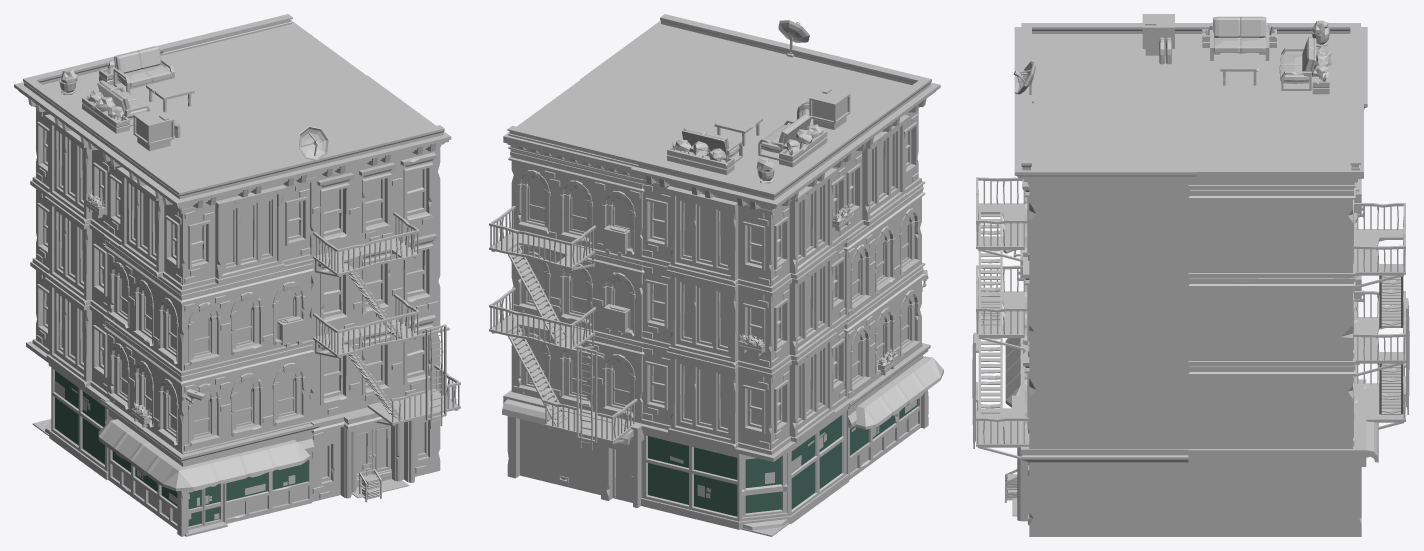
The model's file is house.obj.
3 renders of one model, left to right at view 1: azimuth 30°, elevation 25°; view 2: azimuth 150°, elevation 25°; view 3: azimuth 270°, elevation 25°, orthographic. The views are drawn at different scales.
Parts seen in each view (by area): view 1: SM_Bld_Apartment_Stack_08, SM_Bld_Apartment_Corner_25, SM_Bld_Apartment_Corner_23, SM_Bld_Apartment_Corner_24, SM_Bld_Apartment_Roof_Corner_02, SM_Bld_Apartment_Roof_15, SM_Bld_Apartment_Roof_36, SM_Bld_Shop_Corner_03, SM_Bld_Apartment_Door_22, SM_Bld_Apartment_Roof_Corner_27, SM_Bld_Shop_Cover_05, SM_Bld_Apartment_Corner_42 (+16 smaller); view 2: SM_Bld_Apartment_Stack_28, SM_Bld_Apartment_Corner_43, SM_Bld_Apartment_Corner_41, SM_Bld_Apartment_Corner_42, SM_Bld_Apartment_Roof_36, SM_Bld_Apartment_Roof_15, SM_Bld_Apartment_Roof_Corner_02, SM_Bld_Shop_22, SM_Bld_Shop_Corner_07, SM_Bld_Apartment_Roof_Corner_27, SM_Bld_Shop_Corner_02_Glass, SM_Bld_Apartment_Corner_24 (+17 smaller); view 3: SM_Bld_Apartment_Stack_08, SM_Bld_Apartment_Stack_28, SM_Bld_Shop_22, SM_Bld_Apartment_Door_22, SM_Bld_Apartment_Roof_15, SM_Bld_Apartment_Roof_36, SM_Bld_Apartment_Roof_Corner_02, SM_Bld_Apartment_Roof_Corner_27, SM_Bld_FireEscape_03, SM_Bld_FireEscape_02, SM_Bld_FireEscape_02_1, SM_Bld_FireEscape_03_1 (+8 smaller).
Boxes of the visible parts, bbox=[...] form: SM_Bld_Apartment_Stack_08: bbox=[309, 147, 440, 420]; SM_Bld_Apartment_Corner_25: bbox=[102, 153, 317, 290]; SM_Bld_Apartment_Corner_23: bbox=[104, 316, 314, 452]; SM_Bld_Apartment_Corner_24: bbox=[104, 235, 314, 371]; SM_Bld_Apartment_Roof_Corner_02: bbox=[93, 110, 321, 209]; SM_Bld_Apartment_Roof_15: bbox=[243, 75, 451, 177]; SM_Bld_Apartment_Roof_36: bbox=[158, 14, 365, 109]; SM_Bld_Shop_Corner_03: bbox=[100, 399, 319, 536]; SM_Bld_Apartment_Door_22: bbox=[311, 407, 440, 501]; SM_Bld_Apartment_Roof_Corner_27: bbox=[14, 46, 242, 150]; SM_Bld_Shop_Cover_05: bbox=[98, 419, 310, 491]; SM_Bld_Apartment_Corner_42: bbox=[30, 180, 109, 318]; SM_Bld_Apartment_Stack_28: bbox=[508, 146, 644, 423]; SM_Bld_Apartment_Corner_43: bbox=[635, 319, 851, 455]; SM_Bld_Apartment_Corner_41: bbox=[635, 162, 849, 291]; SM_Bld_Apartment_Corner_42: bbox=[635, 237, 851, 373]; SM_Bld_Apartment_Roof_36: bbox=[503, 76, 714, 178]; SM_Bld_Apartment_Roof_15: bbox=[580, 14, 795, 109]; SM_Bld_Apartment_Roof_Corner_02: bbox=[715, 46, 940, 151]; SM_Bld_Shop_22: bbox=[502, 390, 643, 507]; SM_Bld_Shop_Corner_07: bbox=[636, 398, 853, 536]; SM_Bld_Apartment_Roof_Corner_27: bbox=[630, 107, 860, 210]; SM_Bld_Shop_Corner_02_Glass: bbox=[648, 415, 841, 516]; SM_Bld_Apartment_Corner_24: bbox=[843, 181, 925, 316]; SM_Bld_Apartment_Stack_08: bbox=[1023, 179, 1190, 448]; SM_Bld_Apartment_Stack_28: bbox=[1188, 182, 1357, 448]; SM_Bld_Shop_22: bbox=[1188, 379, 1378, 536]; SM_Bld_Apartment_Door_22: bbox=[1012, 380, 1190, 536]; SM_Bld_Apartment_Roof_15: bbox=[1014, 94, 1196, 184]; SM_Bld_Apartment_Roof_36: bbox=[1186, 94, 1363, 184]; SM_Bld_Apartment_Roof_Corner_02: bbox=[1014, 23, 1196, 103]; SM_Bld_Apartment_Roof_Corner_27: bbox=[1186, 23, 1367, 109]; SM_Bld_FireEscape_03: bbox=[972, 302, 1029, 459]; SM_Bld_FireEscape_02: bbox=[976, 212, 1027, 349]; SM_Bld_FireEscape_02_1: bbox=[1353, 275, 1405, 376]; SM_Bld_FireEscape_03_1: bbox=[1357, 298, 1409, 429].
Bounding box in the file's own units: 10.89 × 13.94 × 13.51.
